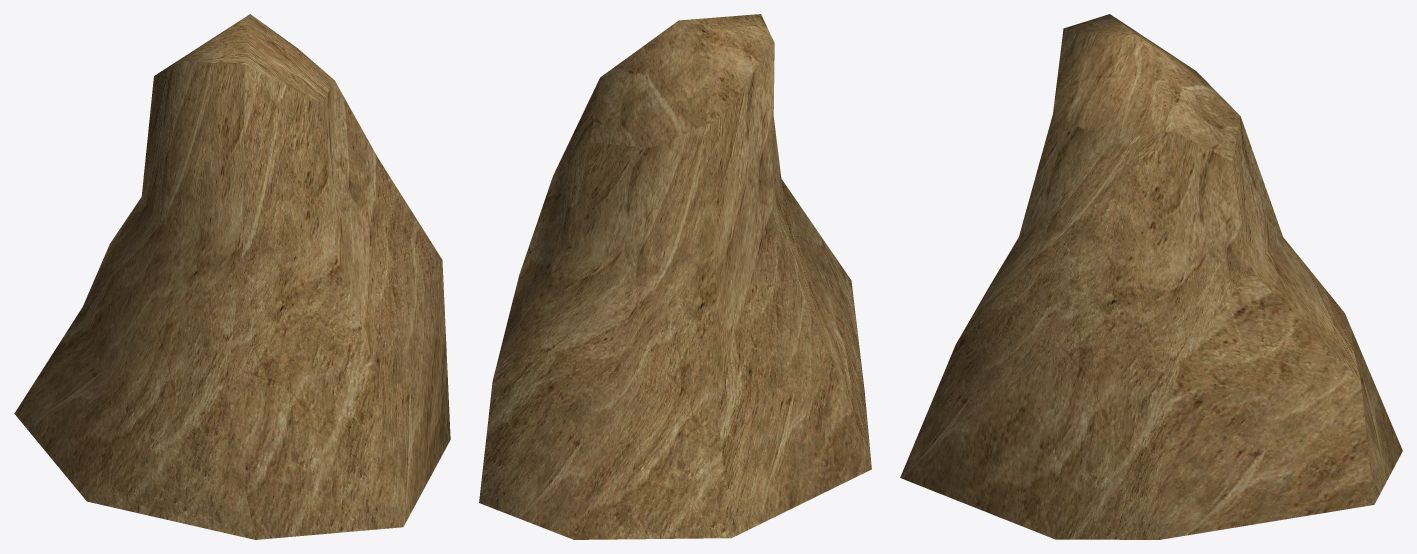
File: w_cd_stone_06.glb
3 views of the same model, side by side, from view 1: azimuth 30°, elevation 25°; view 2: azimuth 150°, elevation 25°; view 3: azimuth 270°, elevation 25° (orthographic). The views are drawn at different scales.
Parts seen in each view (by area): view 1: w_cd_stone_06; view 2: w_cd_stone_06; view 3: w_cd_stone_06.
Part boxes in pixels (box(x1,y1,x2,y2)): w_cd_stone_06: box(14, 14, 450, 539); w_cd_stone_06: box(479, 14, 871, 539); w_cd_stone_06: box(900, 14, 1402, 539).
Size of the model in its own units: 34.86 by 42.06 by 45.09.
Materials: 1 (1 with a texture image).
